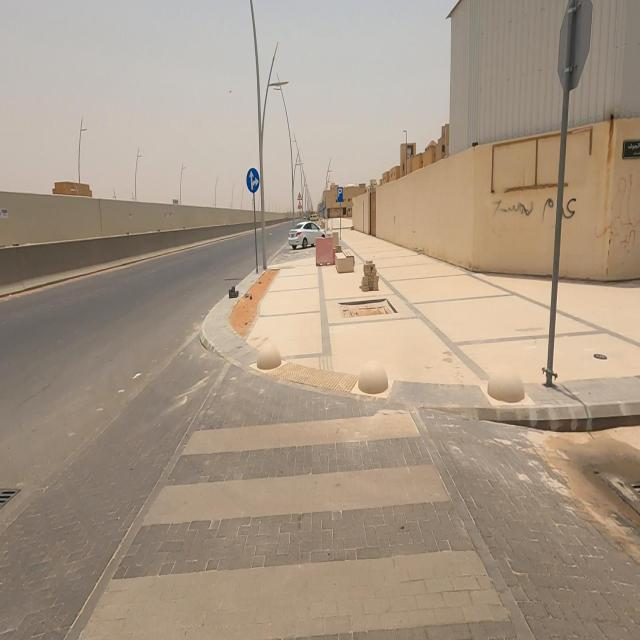Graffiti: (594, 171, 640, 252), (492, 197, 578, 227)
